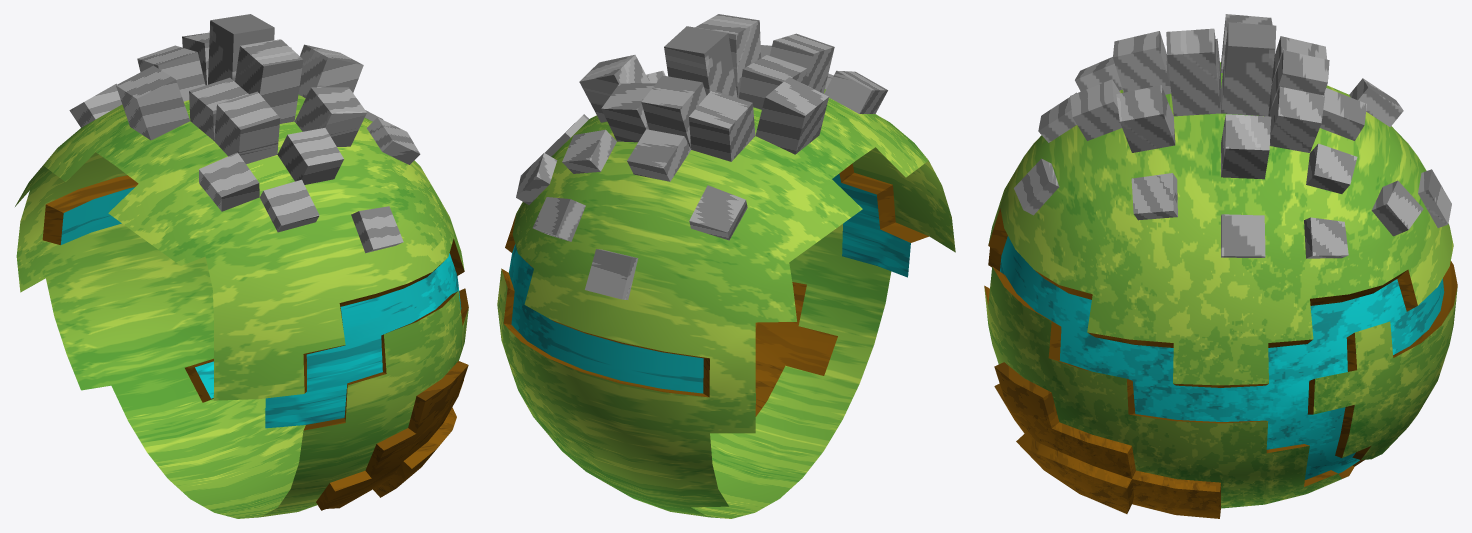
The model's file is planet.fbx.
3 views of the same model, side by side, from view 1: azimuth 30°, elevation 25°; view 2: azimuth 150°, elevation 25°; view 3: azimuth 270°, elevation 25° (orthographic).
Parts seen in each view (by area): view 1: pCube1; view 2: pCube1; view 3: pCube1.
Part boxes in pixels (bbox=[...]): pCube1: bbox=[15, 14, 468, 518]; pCube1: bbox=[497, 14, 955, 518]; pCube1: bbox=[984, 14, 1457, 518].
Bounding box in the file's own units: 3.75 × 4.71 × 4.37.
